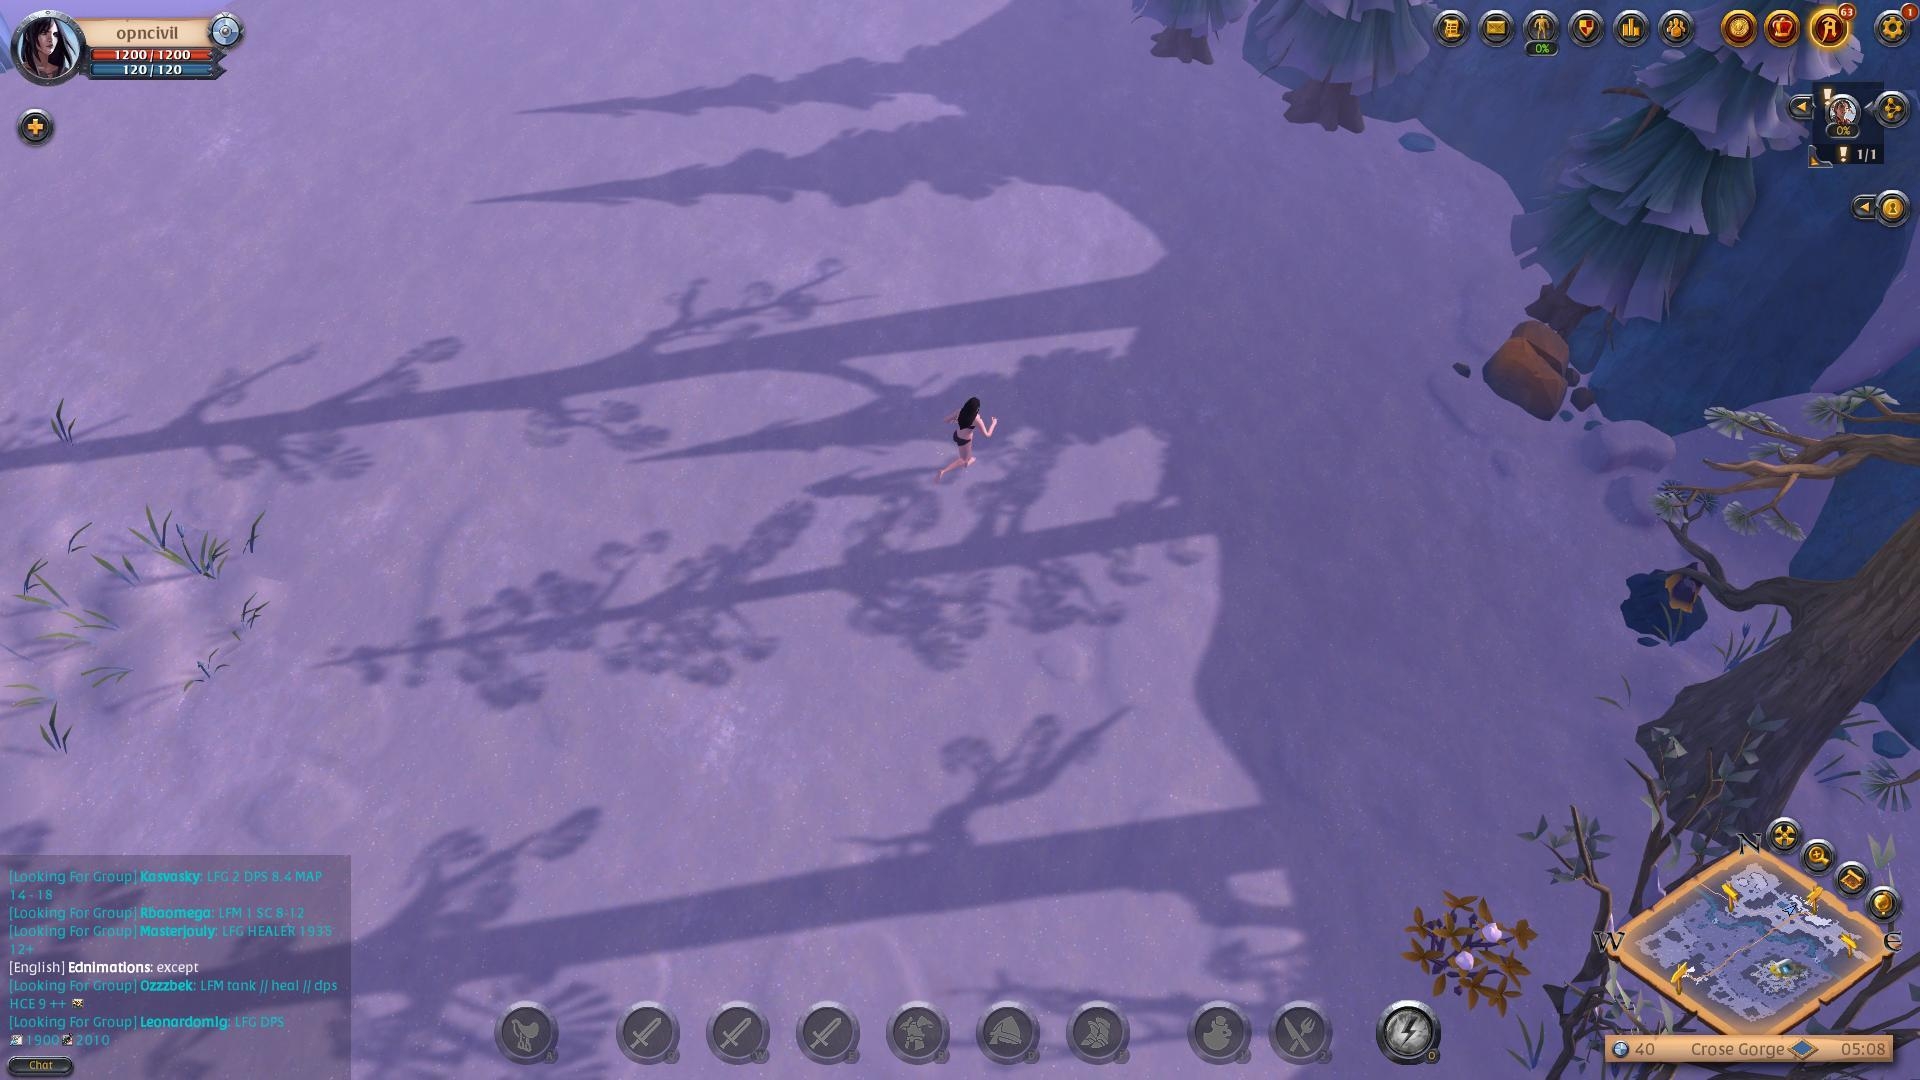copper_ore: (1621, 550, 1725, 644)
cotton: (1404, 890, 1544, 1021)
limestone: (1484, 318, 1592, 426)
